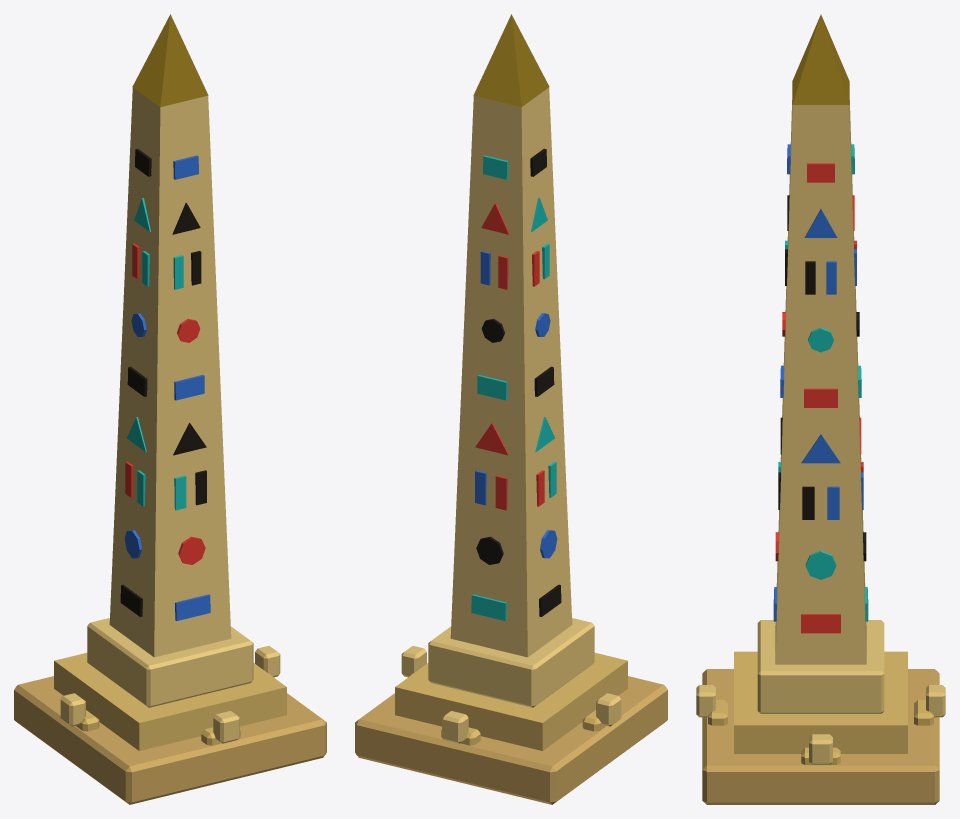
File: obelisk.glb
The picture shows the model from 3 angles, left to right: view 1: azimuth 30°, elevation 25°; view 2: azimuth 150°, elevation 25°; view 3: azimuth 270°, elevation 25°; orthographic projection. The views are drawn at different scales.
Visible parts, largest first — view 1: obelisk; view 2: obelisk; view 3: obelisk.
Part boxes in pixels (left/top/right/bottom): obelisk: left=14, top=14, right=326, bottom=804; obelisk: left=355, top=14, right=667, bottom=804; obelisk: left=696, top=14, right=945, bottom=804.
Size of the model in its own units: 6.3 by 20.7 by 6.3.
Materials: 2 (2 with a texture image).
